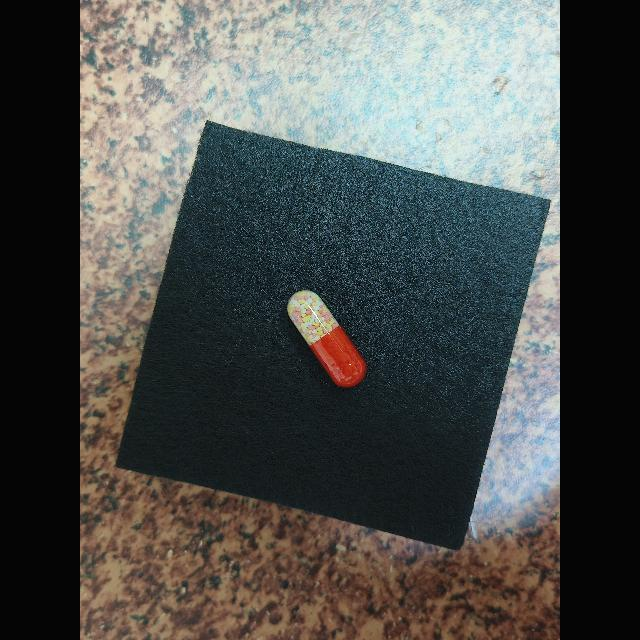Intact Capsule: (287, 290, 367, 387)
